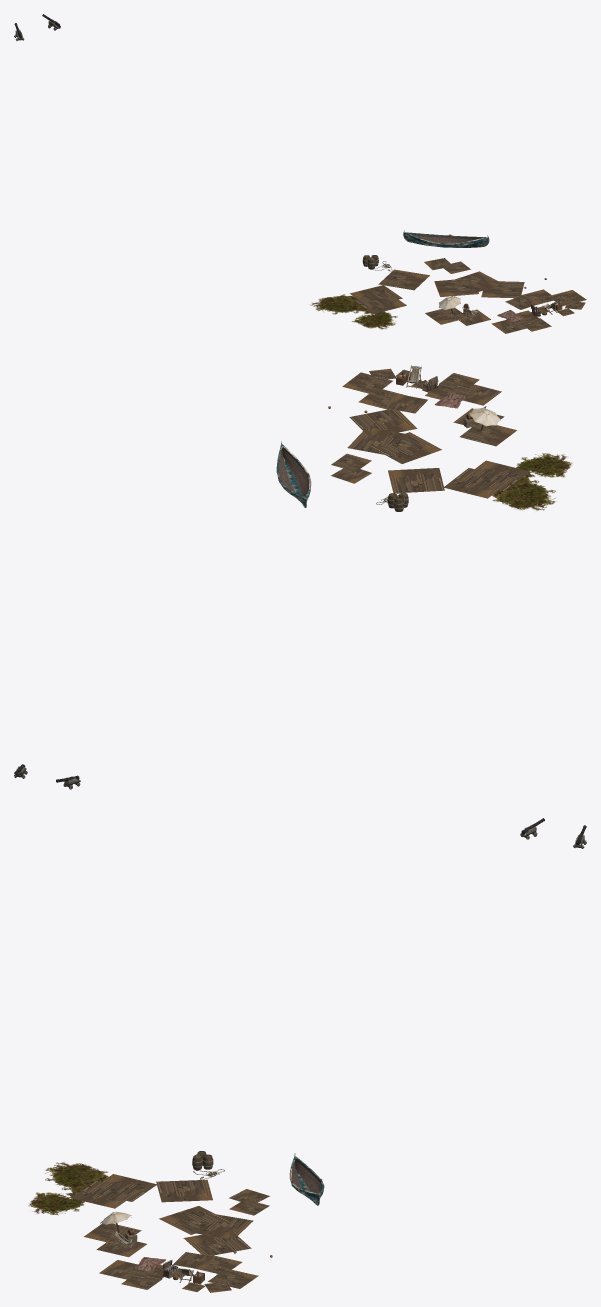
Rendered from beach_foreground_v2.glb.
The picture shows the model from 3 angles, top to bottom: view 1: azimuth 30°, elevation 25°; view 2: azimuth 150°, elevation 25°; view 3: azimuth 330°, elevation 25°; orthographic projection. The views are drawn at different scales.
Parts seen in each view (by area): view 1: FG_Canoe, FG_Decal_Bark_21.001, FG_Decal_Moss_05, FG_Decal_Bark_21.003, FG_Decal_Bark_21.002, FG_Decal_Moss_02, FG_Decal_Bark_18, FG_Decal_Bark_03, FG_Decal_Bark_21; view 2: FG_Canoe, FG_Decal_Bark_21.001, FG_Decal_Moss_05, FG_Decal_Bark_21.003, FG_Decal_Bark_21.002, FG_Decal_Moss_02, FG_Decal_Bark_18, FG_Decal_Bark_03, FG_Decal_Bark_21, FG_Decal_Bark_05, FG_Decal_Bark_20.001; view 3: FG_Decal_Bark_21.001, FG_Decal_Moss_05, FG_Canoe, FG_Decal_Bark_21.003, FG_Decal_Bark_21.002, FG_Decal_Moss_02, FG_Decal_Bark_03, FG_Decal_Bark_18, FG_Decal_Bark_21.
Part boxes in pixels (x1,y1,x2,y2): FG_Canoe: (403,230,489,247); FG_Decal_Bark_21.001: (378,269,429,290); FG_Decal_Moss_05: (310,294,364,314); FG_Decal_Bark_21.003: (481,281,524,298); FG_Decal_Bark_21.002: (434,278,478,296); FG_Decal_Moss_02: (351,310,397,329); FG_Decal_Bark_18: (350,285,402,306); FG_Decal_Bark_03: (354,292,406,313); FG_Decal_Bark_21: (455,271,498,293); FG_Canoe: (276,441,311,507); FG_Decal_Bark_21.001: (388,468,444,493); FG_Decal_Moss_05: (492,480,555,510); FG_Decal_Bark_21.003: (349,409,417,437); FG_Decal_Bark_21.002: (370,432,441,463); FG_Decal_Moss_02: (516,453,572,478); FG_Decal_Bark_18: (443,468,512,498); FG_Decal_Bark_03: (460,460,529,491); FG_Decal_Bark_21: (347,428,411,454); FG_Decal_Bark_05: (460,425,516,446); FG_Decal_Bark_20.001: (342,372,392,394); FG_Decal_Bark_21.001: (156,1179,212,1202); FG_Decal_Moss_05: (45,1162,108,1190); FG_Canoe: (289,1153,324,1205); FG_Decal_Bark_21.003: (183,1229,251,1255); FG_Decal_Bark_21.002: (159,1206,230,1234); FG_Decal_Moss_02: (28,1191,84,1215); FG_Decal_Bark_03: (71,1180,139,1208); FG_Decal_Bark_18: (88,1174,157,1201); FG_Decal_Bark_21: (189,1214,253,1238).
Size of the model in its own units: 25.82 by 3.65 by 87.43.
Materials: 29 (29 with a texture image).
